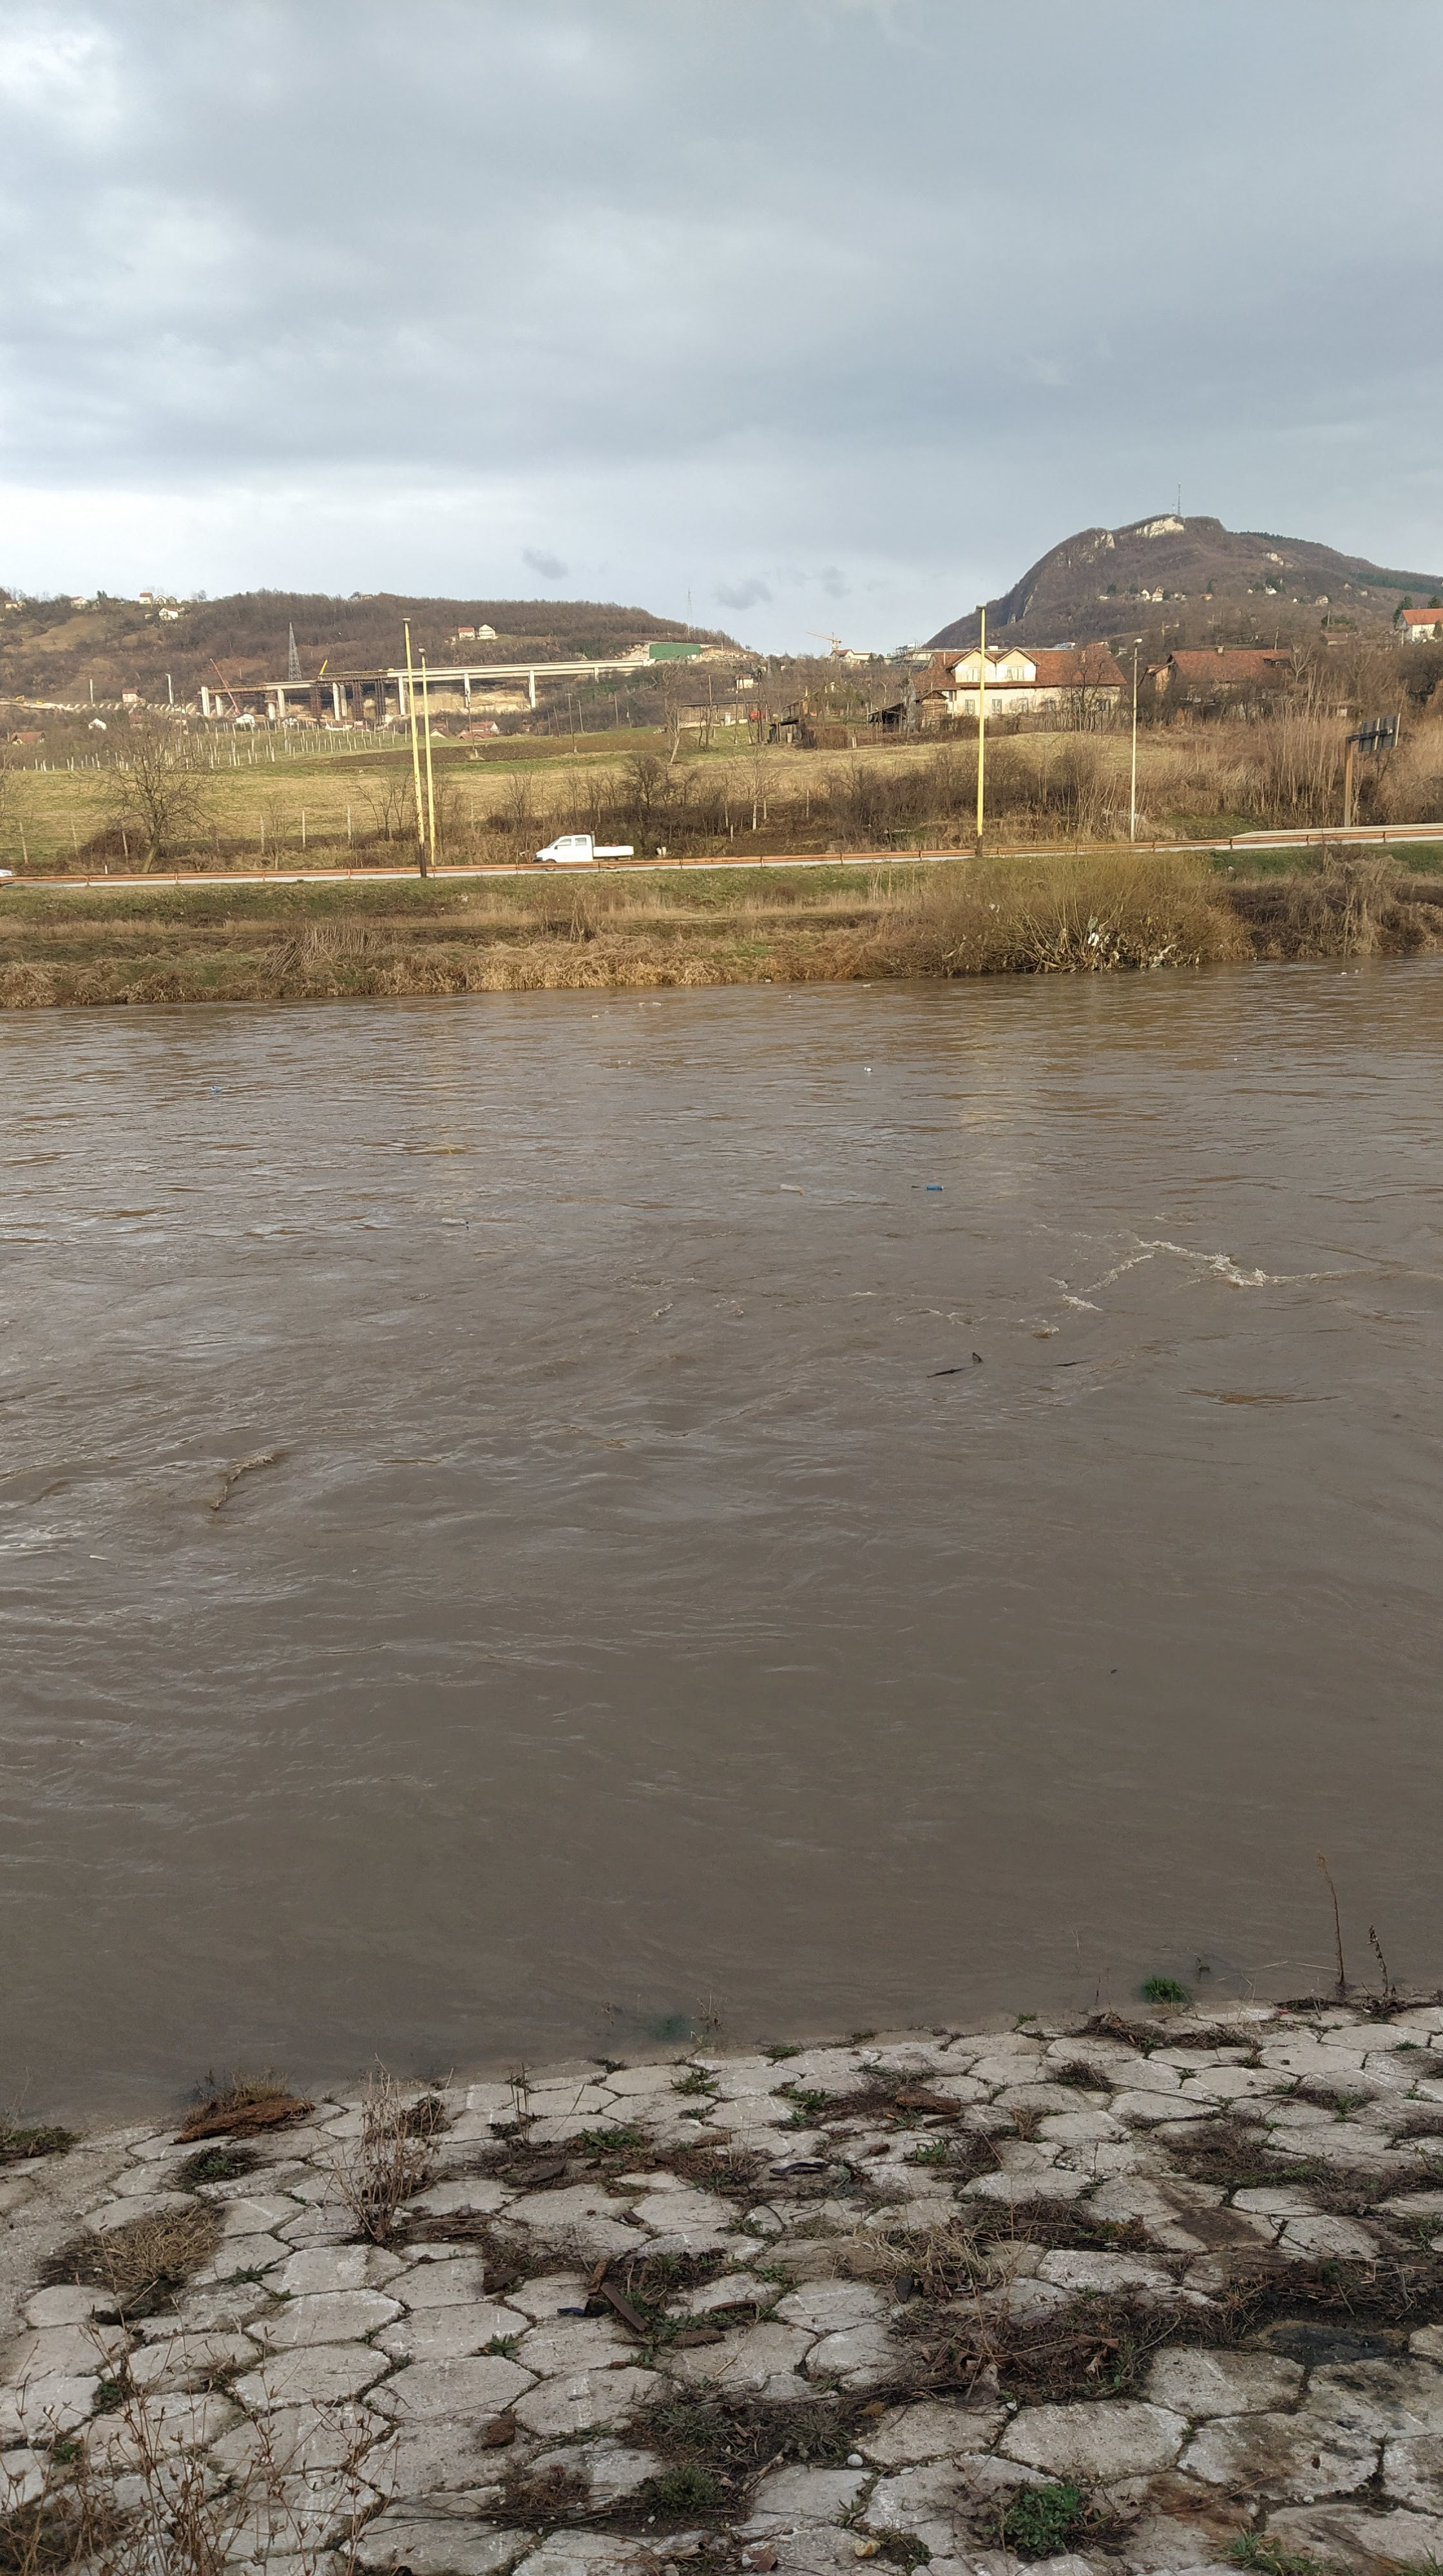Plastic Bottle: (441, 1217, 469, 1224), (783, 1184, 804, 1192), (926, 1185, 942, 1191), (211, 1086, 223, 1092), (864, 1067, 871, 1072), (862, 984, 869, 987), (591, 1014, 598, 1017), (653, 1001, 659, 1005), (639, 1001, 643, 1005)
